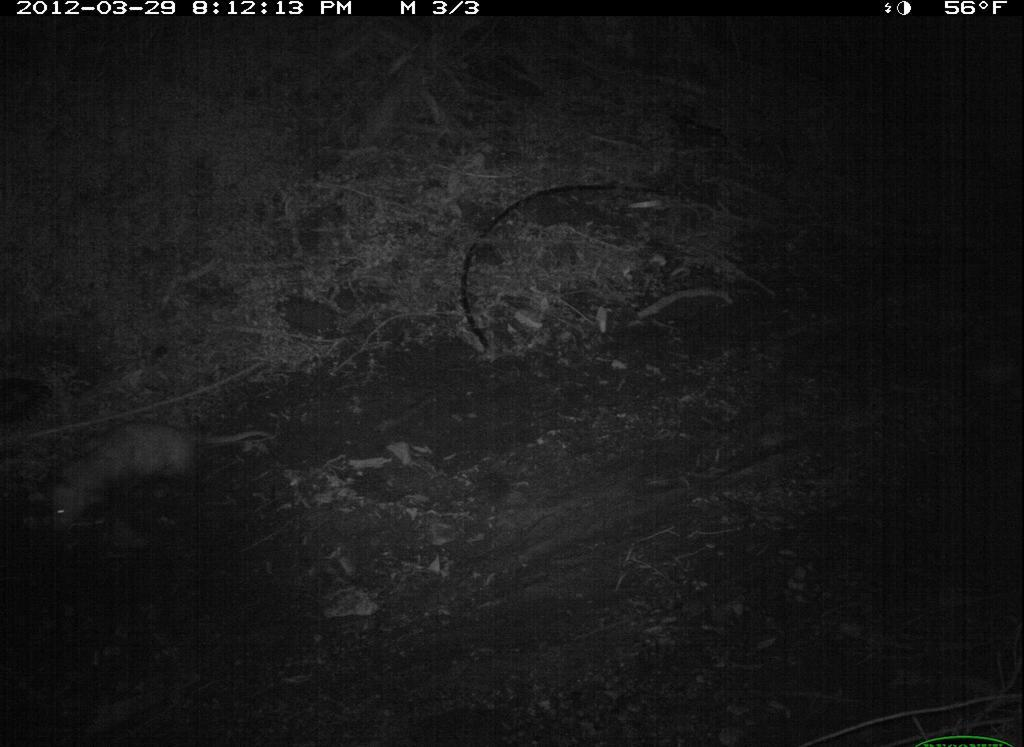opossum: (22, 414, 289, 546)
